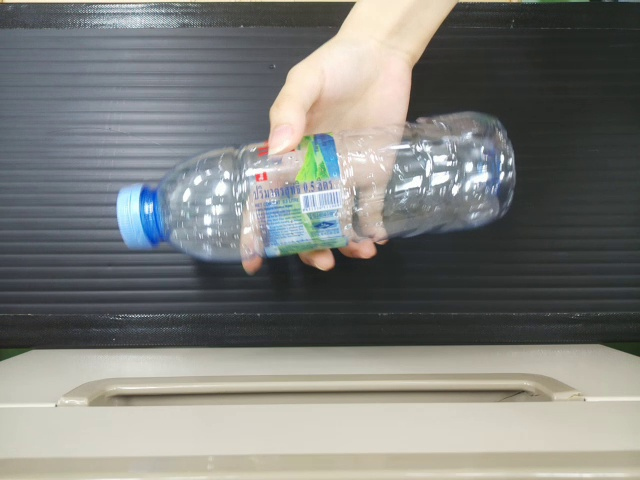bottle: (115, 119, 518, 267)
